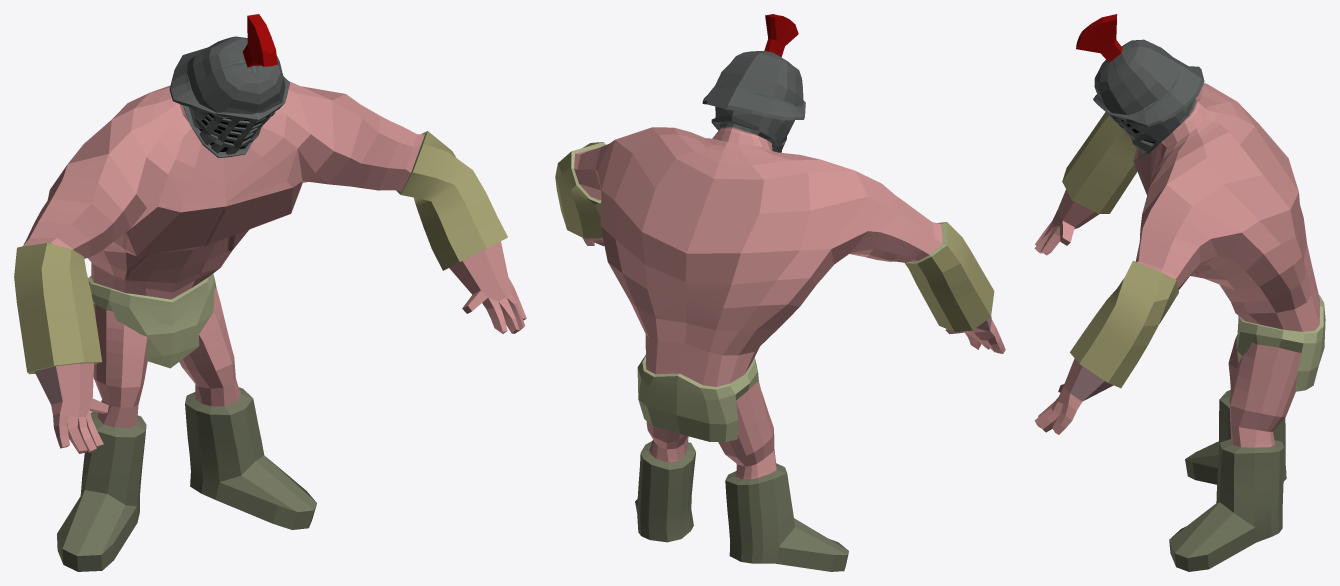
File: GladiatorCelebracion_000512.obj
3 renders of one model, left to right at view 1: azimuth 30°, elevation 25°; view 2: azimuth 150°, elevation 25°; view 3: azimuth 270°, elevation 25°, orthographic. The views are drawn at different scales.
Parts seen in each view (by area): view 1: Gadiador_Gladiador_H; view 2: Gadiador_Gladiador_H; view 3: Gadiador_Gladiador_H.
Part boxes in pixels (x1,y1,x2,y2): Gadiador_Gladiador_H: [14, 14, 526, 571]; Gadiador_Gladiador_H: [555, 14, 1005, 571]; Gadiador_Gladiador_H: [1034, 14, 1325, 571].
Bounding box in the file's own units: 6.13 × 6.84 × 3.53.
Materials: 1 (1 with a texture image).
